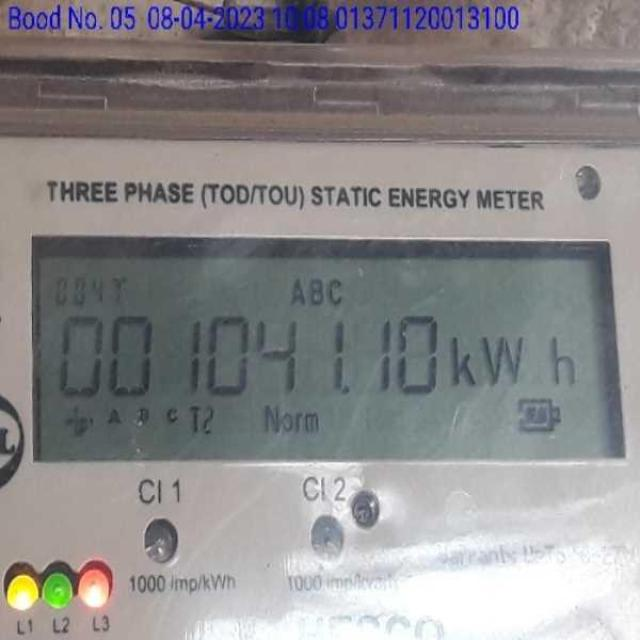0: (102, 301, 160, 412), (395, 304, 449, 405), (53, 302, 106, 404), (210, 302, 253, 408)
1: (305, 302, 344, 403), (355, 305, 396, 401), (179, 304, 209, 409)
4: (254, 300, 307, 406)
Digital meter: (37, 242, 616, 455)
point: (337, 383, 355, 402)
